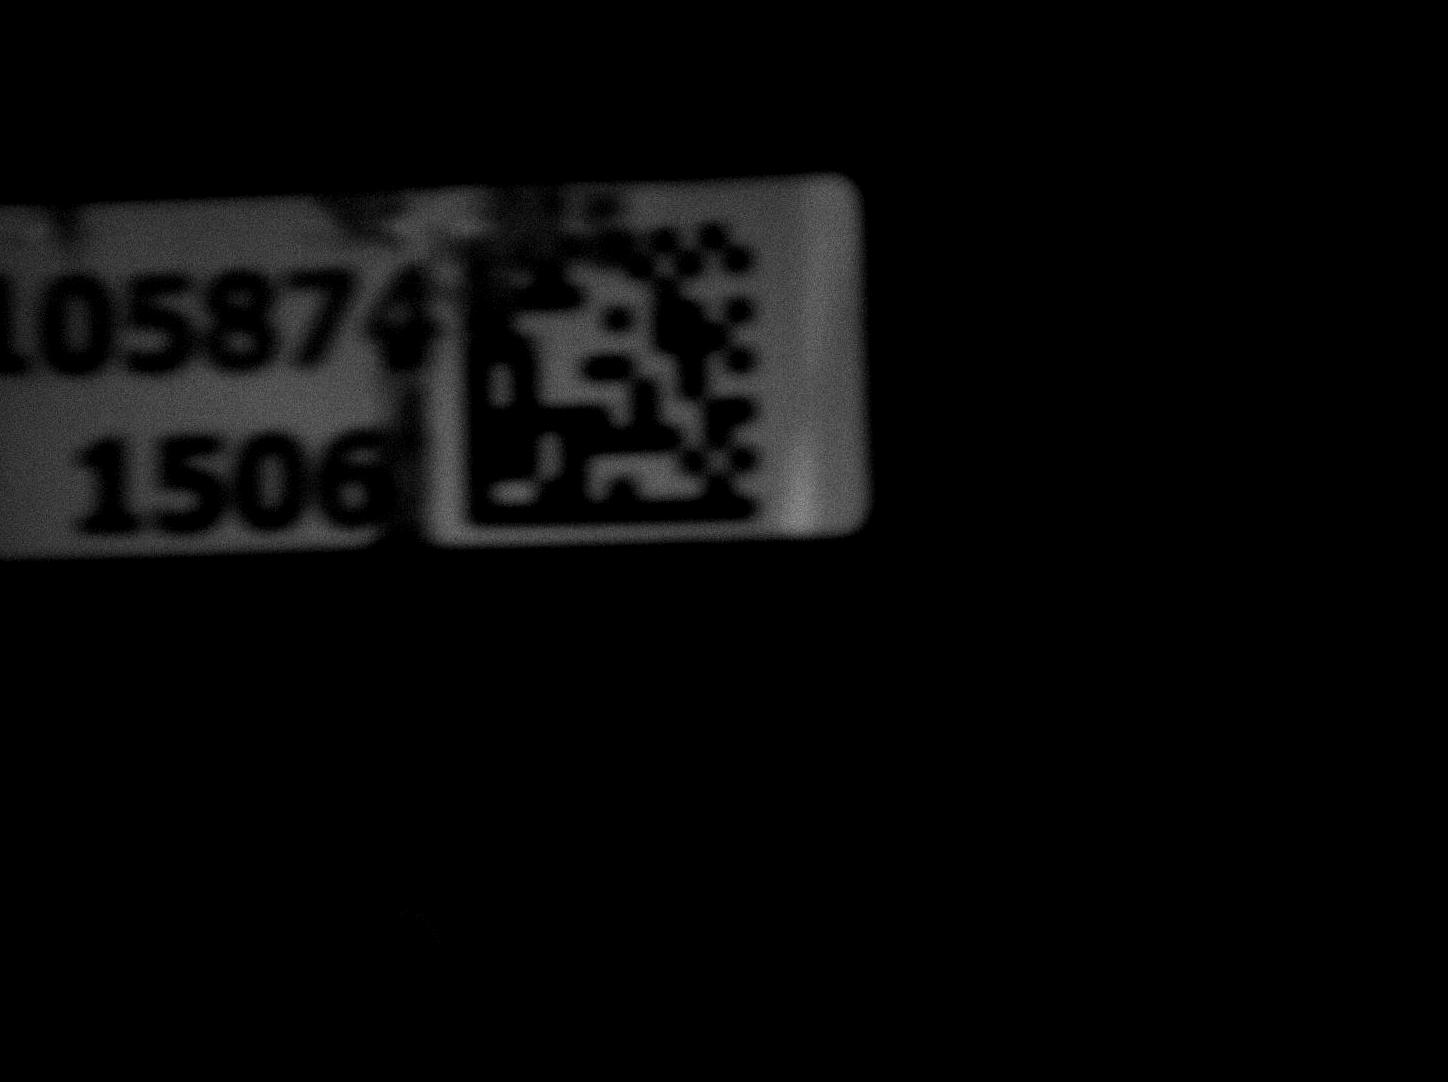data matrix: (446, 203, 792, 541)
